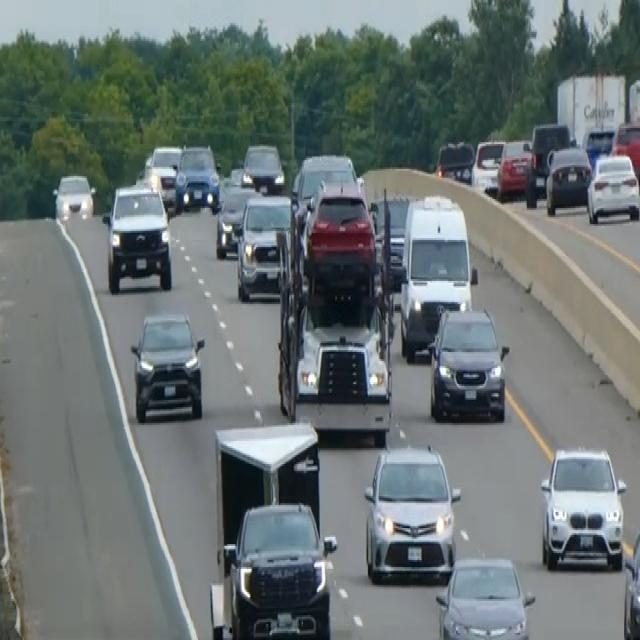car: (223, 498, 337, 638), (362, 441, 461, 583), (398, 192, 477, 361), (539, 442, 626, 570), (426, 304, 509, 423), (302, 176, 377, 300), (129, 309, 205, 423), (435, 553, 535, 638), (101, 182, 172, 294), (235, 192, 295, 300), (370, 186, 412, 284), (524, 119, 571, 206), (586, 151, 639, 224), (544, 142, 592, 215), (215, 183, 258, 258), (175, 142, 220, 212), (241, 140, 285, 194), (496, 137, 532, 199), (52, 171, 95, 222), (137, 162, 178, 215), (610, 119, 639, 185), (623, 521, 639, 638), (470, 137, 504, 192), (434, 137, 474, 183), (581, 122, 615, 164), (149, 142, 182, 171)
lorry: (275, 181, 396, 443)
